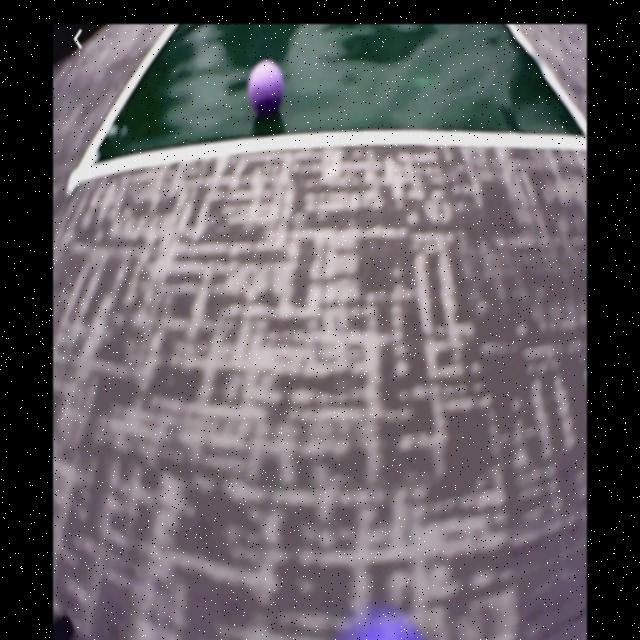ball: (250, 60, 285, 116), (353, 612, 422, 640)
